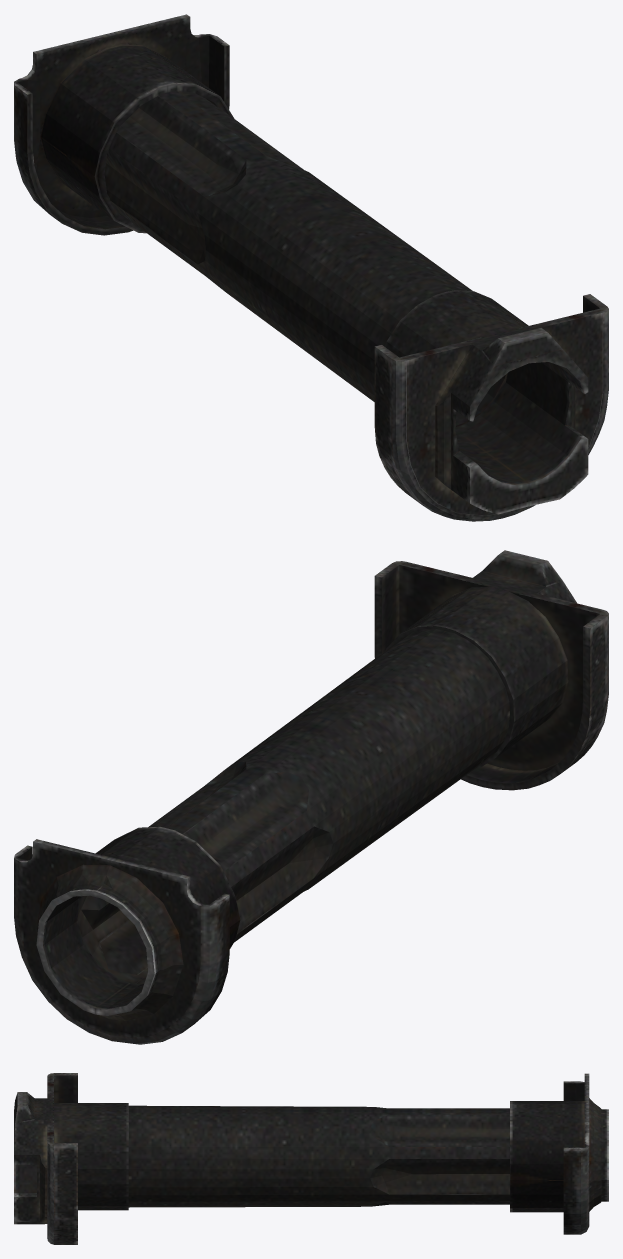
3 renders of one model, top to bottom at view 1: azimuth 30°, elevation 25°; view 2: azimuth 150°, elevation 25°; view 3: azimuth 270°, elevation 25°, orthographic. The views are drawn at different scales.
Visible parts, largest first — view 1: TW_59d36a0086f7747e673f3946_PZ_Import; view 2: TW_59d36a0086f7747e673f3946_PZ_Import; view 3: TW_59d36a0086f7747e673f3946_PZ_Import.
Boxes of the visible parts, box(x1,y1,x2,y2) form: TW_59d36a0086f7747e673f3946_PZ_Import: box(14, 14, 608, 521); TW_59d36a0086f7747e673f3946_PZ_Import: box(14, 550, 608, 1044); TW_59d36a0086f7747e673f3946_PZ_Import: box(14, 1073, 608, 1244).
Bounding box in the file's own units: 0.019 × 0.0661 × 0.0168.
1 material, 1 textured.
